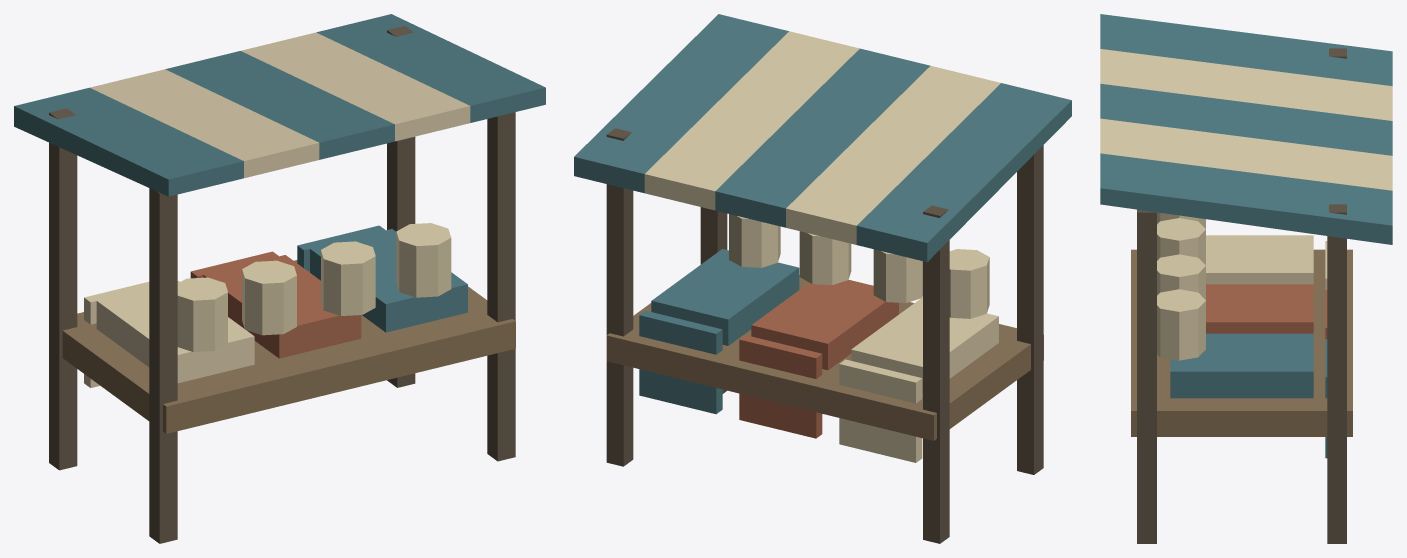
File: Town_StallCloth.fbx
The picture shows the model from 3 angles, left to right: view 1: azimuth 30°, elevation 25°; view 2: azimuth 150°, elevation 25°; view 3: azimuth 270°, elevation 25°; orthographic projection. The views are drawn at different scales.
Visible parts, largest first — view 1: Town_StallCloth; view 2: Town_StallCloth; view 3: Town_StallCloth.
Part boxes in pixels (x1,y1,x2,y2): Town_StallCloth: [14, 14, 545, 543]; Town_StallCloth: [574, 14, 1071, 543]; Town_StallCloth: [1100, 14, 1392, 543].
Bounding box in the file's own units: 2.3 × 2.22 × 1.63.
